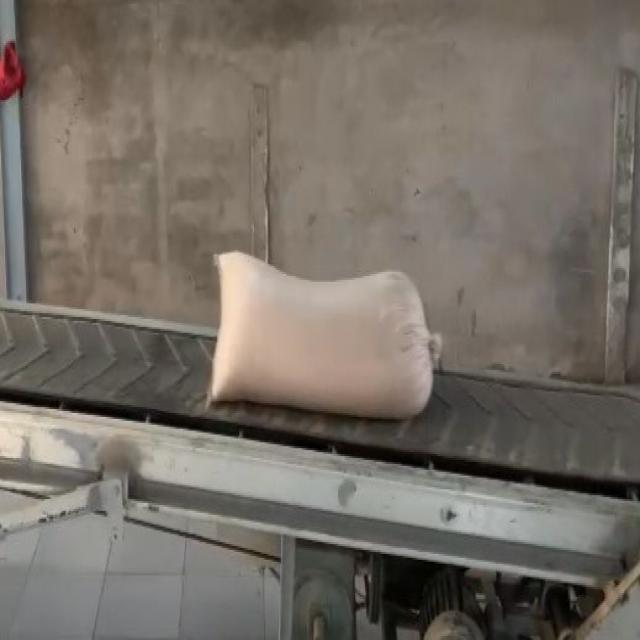gunny_bag: (210, 252, 434, 418)
